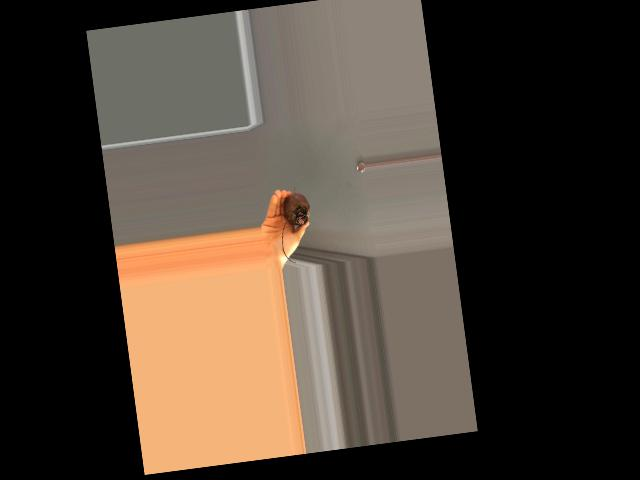beet: (273, 182, 316, 263)
